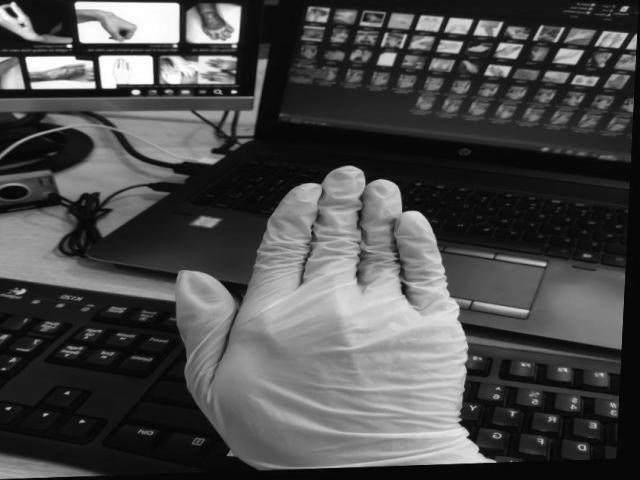gloved: (176, 166, 474, 480)
